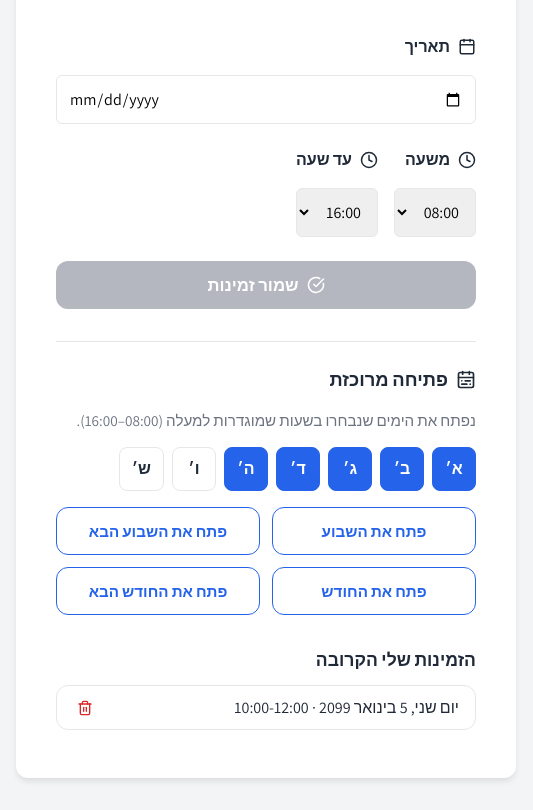
it: EmployeeAvailabilityPage › keeps the entry and shows an error when deletion fails
(page scrolled)
Step 1. Click the button named "מחיקת זמינות" → (85, 708), box x1=73 y1=696 x2=97 y2=720
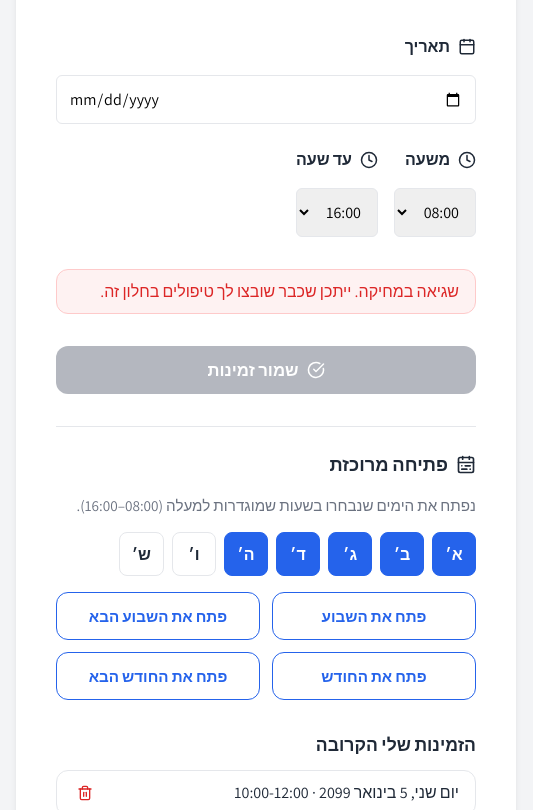
Expected: the text "שגיאה במחיקה. ייתכן שכבר שובצו לך טיפולים בחלון זה." is shown, x1=56 y1=269 x2=476 y2=314
